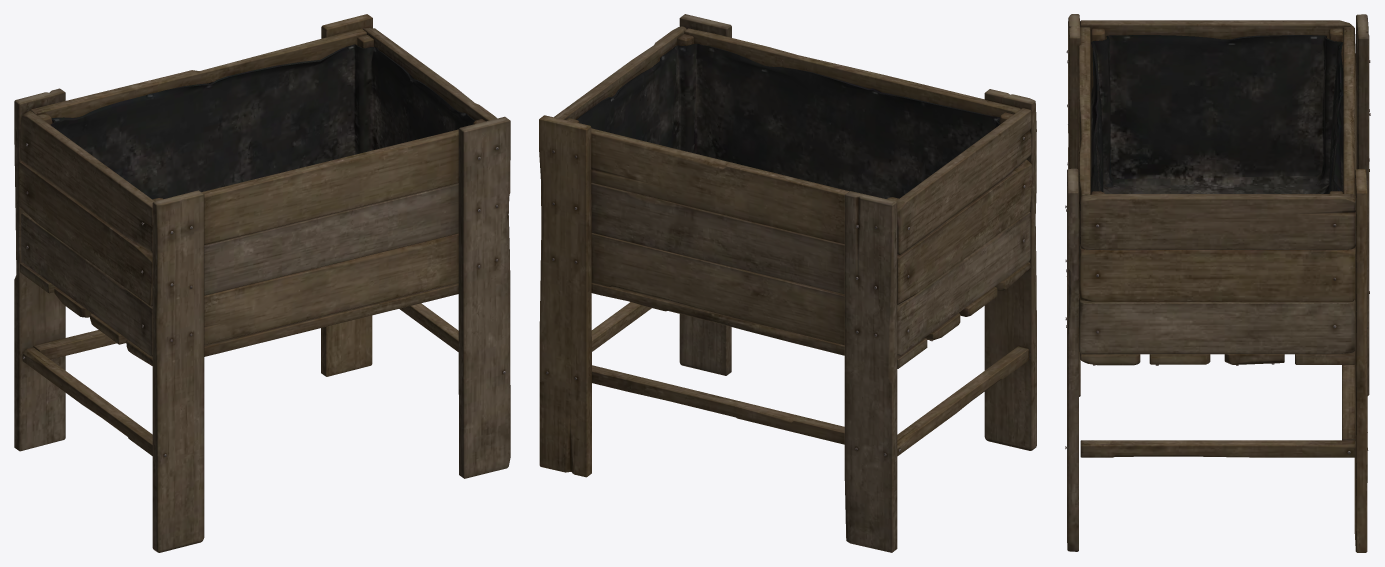
File: planter_box_03.glb
3 views of the same model, side by side, from view 1: azimuth 30°, elevation 25°; view 2: azimuth 150°, elevation 25°; view 3: azimuth 270°, elevation 25° (orthographic). The views are drawn at different scales.
Parts seen in each view (by area): view 1: planter_box_03; view 2: planter_box_03; view 3: planter_box_03.
Part boxes in pixels (x1,y1,x2,y2): planter_box_03: [14, 14, 510, 552]; planter_box_03: [539, 14, 1036, 552]; planter_box_03: [1065, 14, 1370, 552].
Bounding box in the file's own units: 0.9143 × 0.8552 × 0.6556.
1 material, 1 textured.
